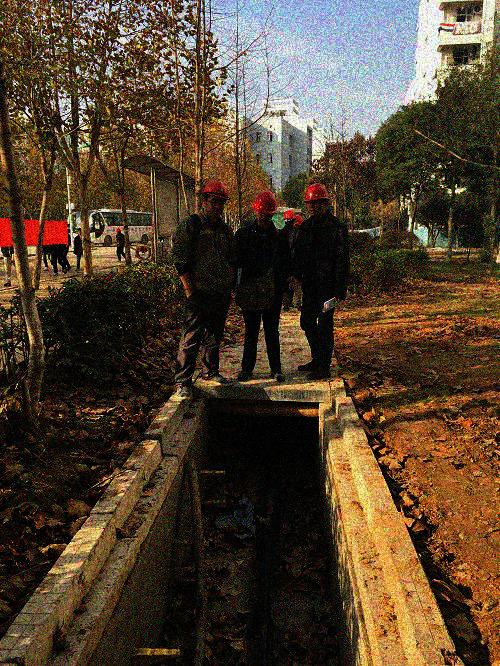helmet: (198, 179, 229, 220), (302, 181, 329, 217), (252, 191, 277, 224), (282, 209, 296, 226), (115, 226, 122, 234)
